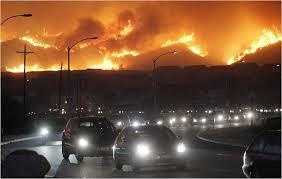fire: (224, 25, 282, 65), (159, 32, 209, 59)
